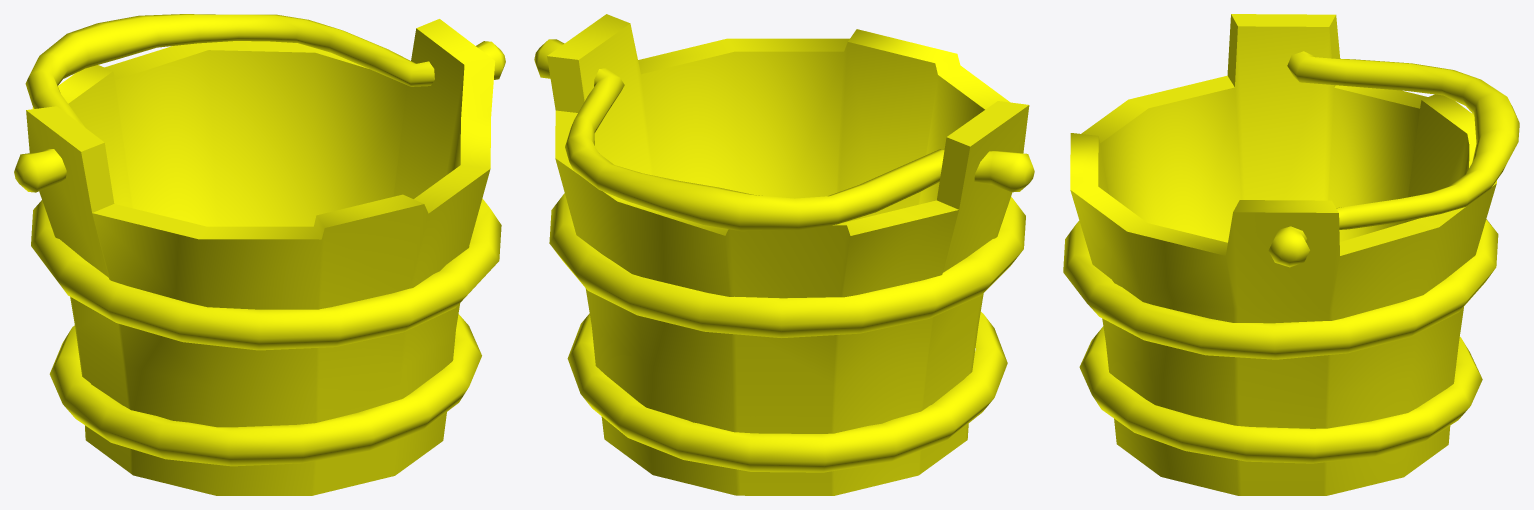
Rendered from wooden_bucket.glb.
3 views of the same model, side by side, from view 1: azimuth 30°, elevation 25°; view 2: azimuth 150°, elevation 25°; view 3: azimuth 270°, elevation 25° (orthographic). The views are drawn at different scales.
Size of the model in its own units: 0.4339 by 0.2928 by 0.3834.
Materials: 1 (1 with a texture image).
